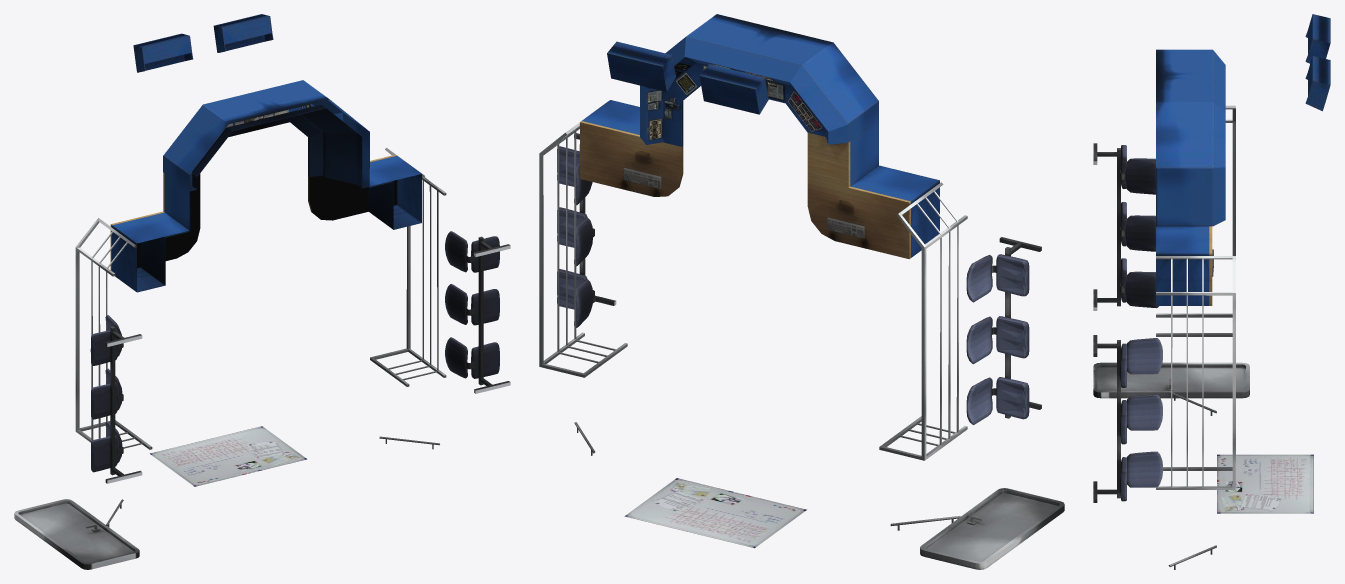
The model's file is cvfFrIlotArriereIntPont4.fbx.
3 renders of one model, left to right at view 1: azimuth 30°, elevation 25°; view 2: azimuth 150°, elevation 25°; view 3: azimuth 270°, elevation 25°, orthographic. The views are drawn at different scales.
Visible parts, largest first — view 1: ShapeIndexedFaceSet_001, ShapeIndexedFaceSet; view 2: ShapeIndexedFaceSet_001, ShapeIndexedFaceSet; view 3: ShapeIndexedFaceSet, ShapeIndexedFaceSet_001.
Part boxes in pixels (x1,y1,x2,y2): ShapeIndexedFaceSet_001: [110, 80, 421, 486]; ShapeIndexedFaceSet: [14, 14, 510, 569]; ShapeIndexedFaceSet_001: [580, 14, 939, 548]; ShapeIndexedFaceSet: [539, 41, 1064, 569]; ShapeIndexedFaceSet: [1093, 14, 1330, 569]; ShapeIndexedFaceSet_001: [1156, 49, 1313, 513].
Size of the model in its own units: 6.74 by 6.17 by 3.03.
